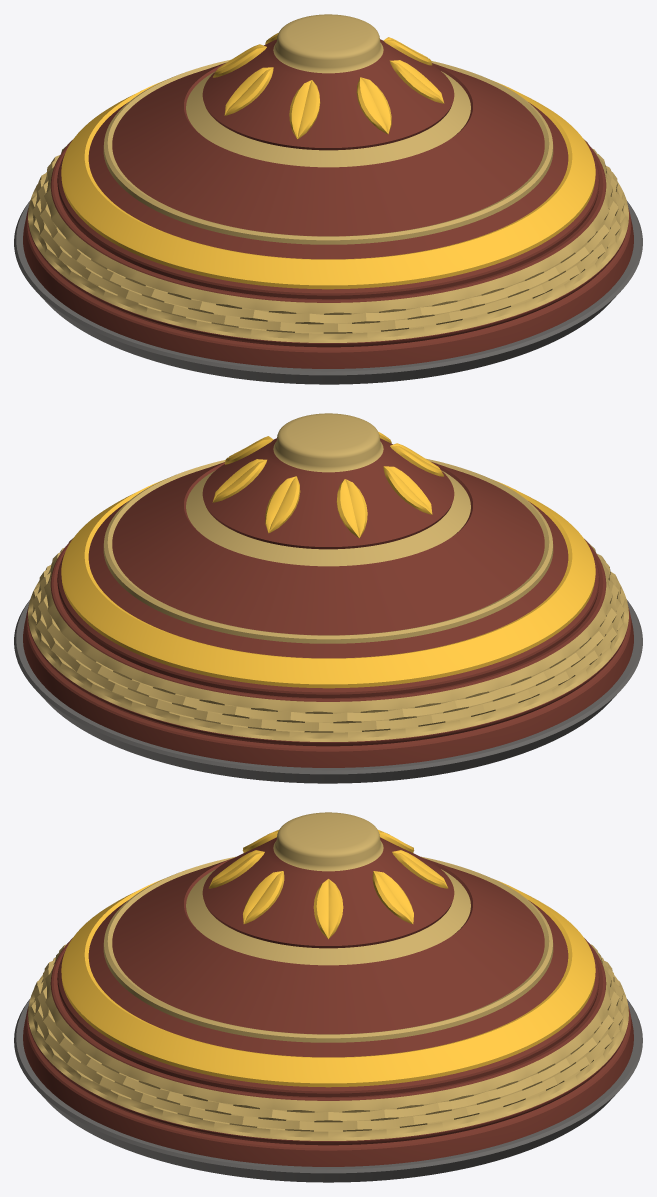
The model's file is gasing_pahang.glb.
The picture shows the model from 3 angles, top to bottom: view 1: azimuth 30°, elevation 25°; view 2: azimuth 150°, elevation 25°; view 3: azimuth 270°, elevation 25°; orthographic projection.
Parts seen in each view (by area): view 1: Gasing_pahang; view 2: Gasing_pahang; view 3: Gasing_pahang.
Boxes of the visible parts, box(x1,y1,x2,y2) form: Gasing_pahang: box(14, 14, 642, 384); Gasing_pahang: box(14, 413, 642, 783); Gasing_pahang: box(14, 812, 642, 1182).
Bounding box in the file's own units: 1.12 × 0.6 × 1.12.
